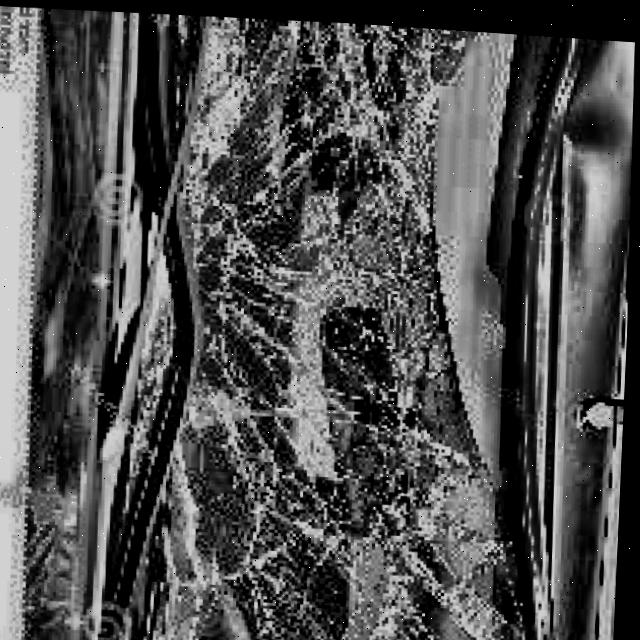glass_shatter: (183, 14, 548, 640)
